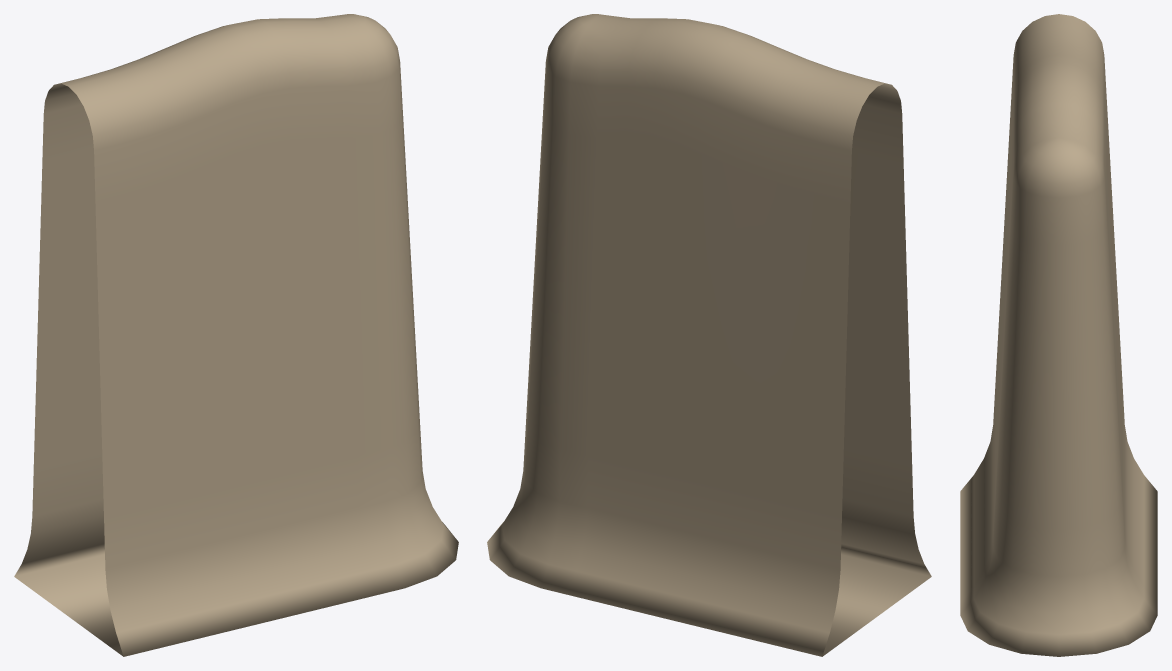
Rendered from KFB_Wall_end.r4.glb.
The picture shows the model from 3 angles, left to right: view 1: azimuth 30°, elevation 25°; view 2: azimuth 150°, elevation 25°; view 3: azimuth 270°, elevation 25°; orthographic projection. The views are drawn at different scales.
Visible parts, largest first — view 1: KFB_Wall_end; view 2: KFB_Wall_end; view 3: KFB_Wall_end.
Part boxes in pixels (box(x1,y1,x2,y2)): KFB_Wall_end: box(14, 14, 458, 656); KFB_Wall_end: box(487, 14, 931, 656); KFB_Wall_end: box(960, 14, 1157, 656).
Size of the model in its own units: 2.68 by 3.72 by 1.35.
